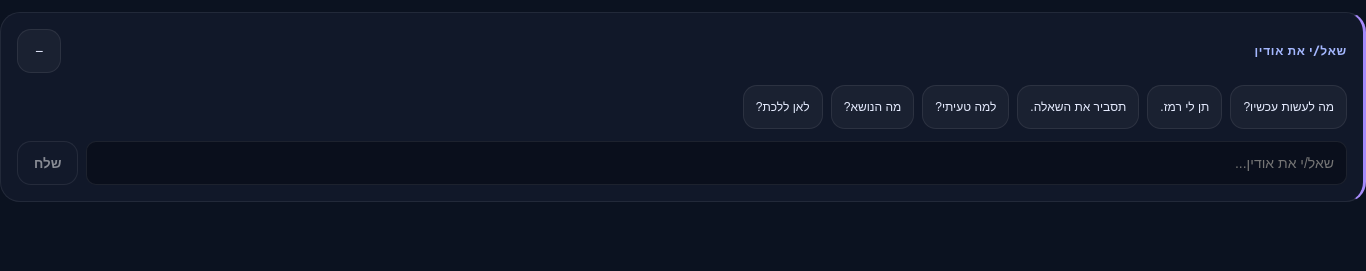
Scenario: AskOdinPanel (general educational assistant pass) › answers "what's the subject" with the mission's subject
The image size is (1366, 271).
Click the button with test id "ask-odin-subject" at {"x": 872, "y": 107}, box [831,85,914,129]
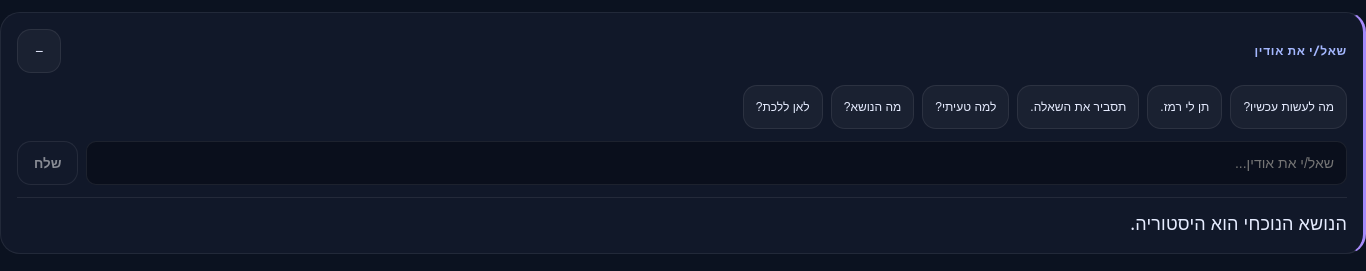
Now the text with test id "ask-odin-answer" shows "היסטוריה", box [1130,211,1347,235]
